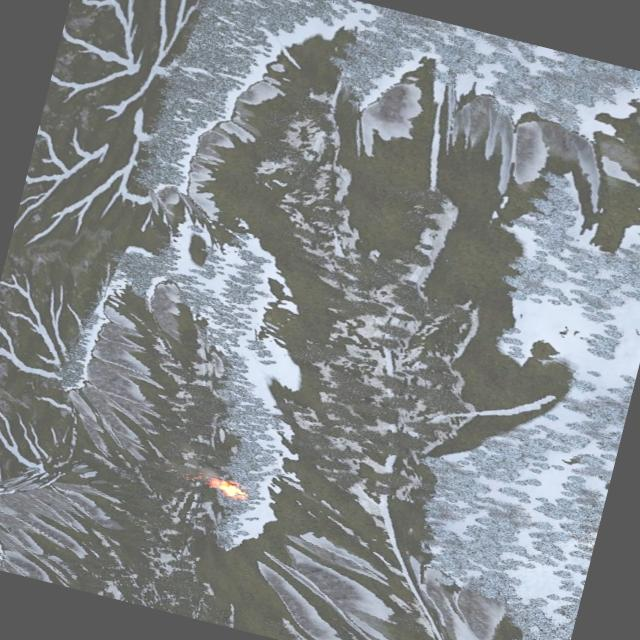fire: (214, 477, 248, 498)
smoke: (168, 458, 219, 488)
